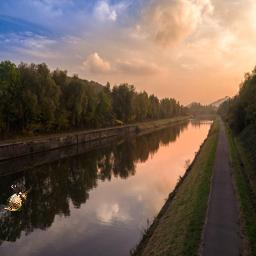Sparrow: (4, 185, 33, 212)
